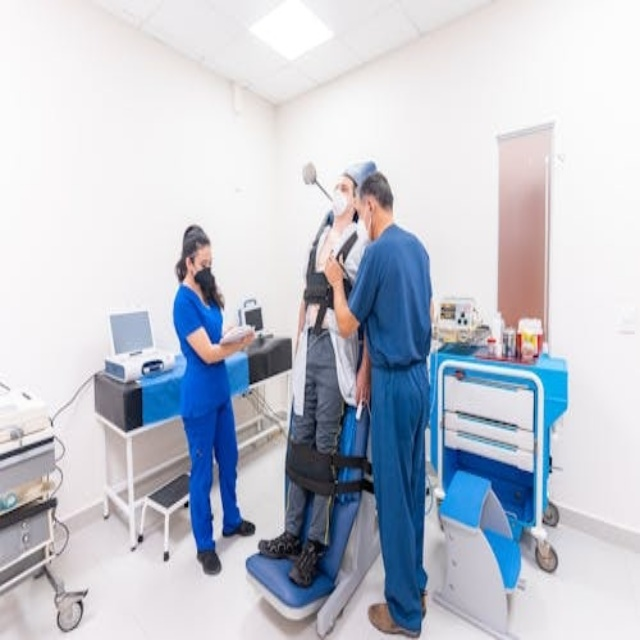Mascara: (352, 206, 371, 248), (331, 189, 352, 218), (193, 264, 215, 291)
Sin_guantes: (354, 355, 371, 411), (324, 249, 346, 287)
